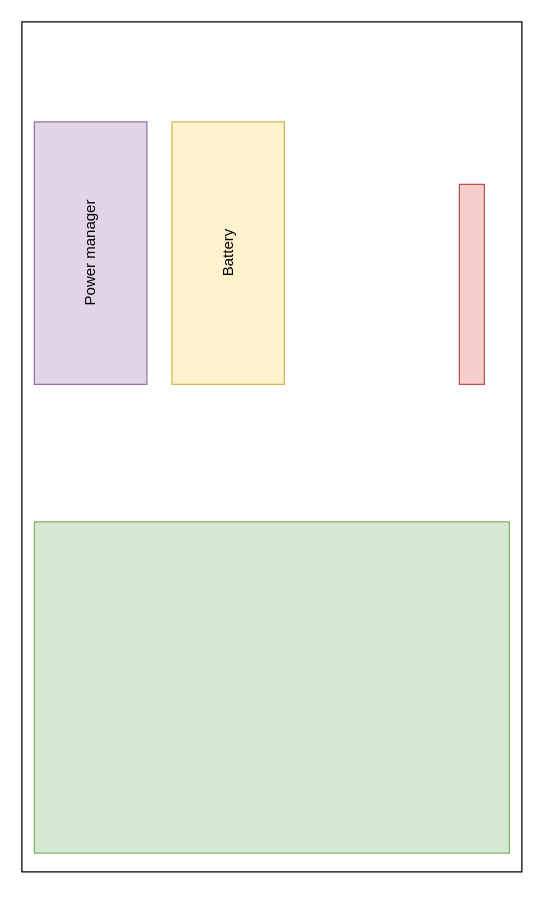
The diagram is 544 pixels wide and 904 high, and some of its shapes have lost their labels. The shapes that lost their labels are listed below. From the top down, each one's centre as x and y in pixels, then its label:
(x=471, y=283): Antenne
(x=271, y=687): FLWSB
